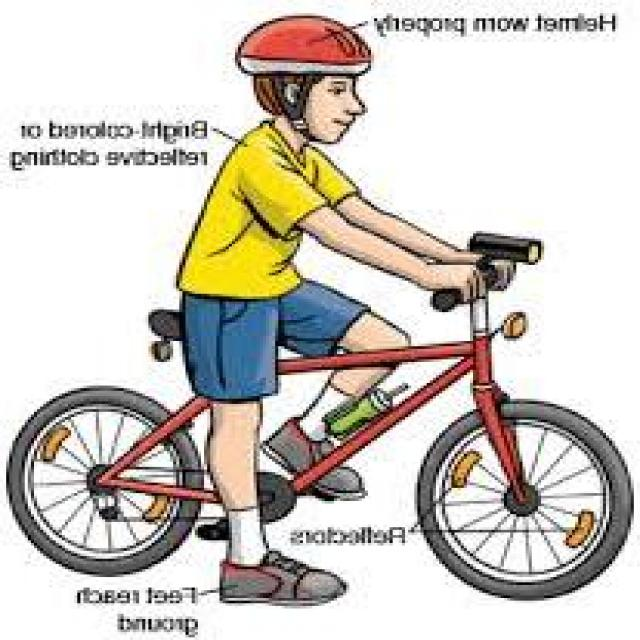Reflective-Jacket: (164, 120, 368, 310)
Safety-Helmet: (226, 5, 383, 84)
